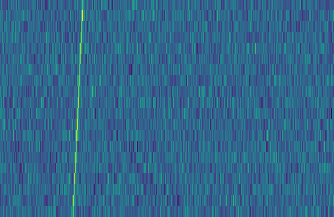signal: (66, 0, 86, 217)
